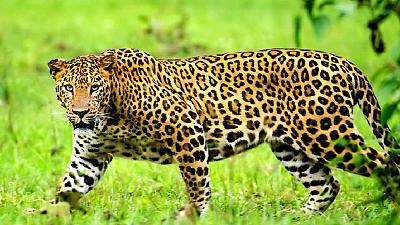leopard: (45, 46, 400, 223)
